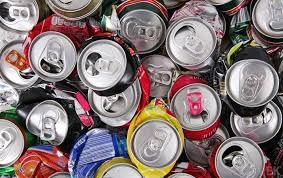metal: (114, 97, 194, 177), (75, 35, 140, 102), (219, 53, 283, 121), (164, 71, 222, 143), (158, 12, 225, 69), (15, 94, 76, 151), (110, 1, 169, 56), (204, 129, 269, 178), (26, 30, 81, 85), (11, 135, 72, 178), (244, 1, 283, 51), (1, 1, 43, 38), (43, 1, 107, 24)
